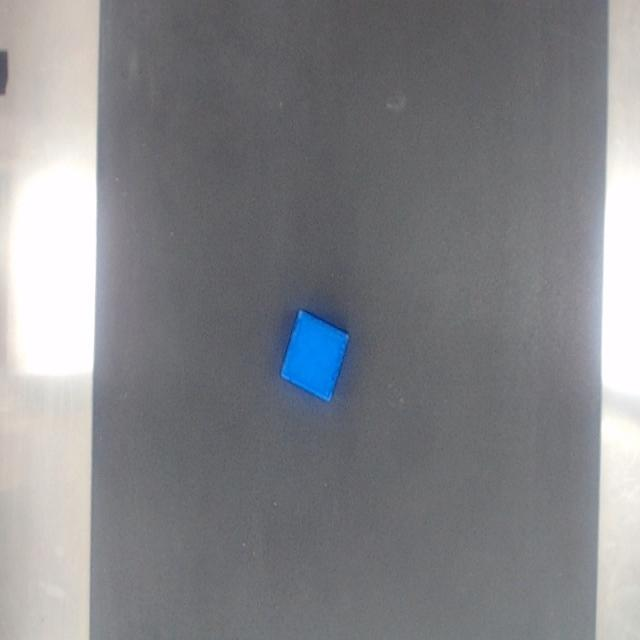Azul: (281, 311, 348, 401)
